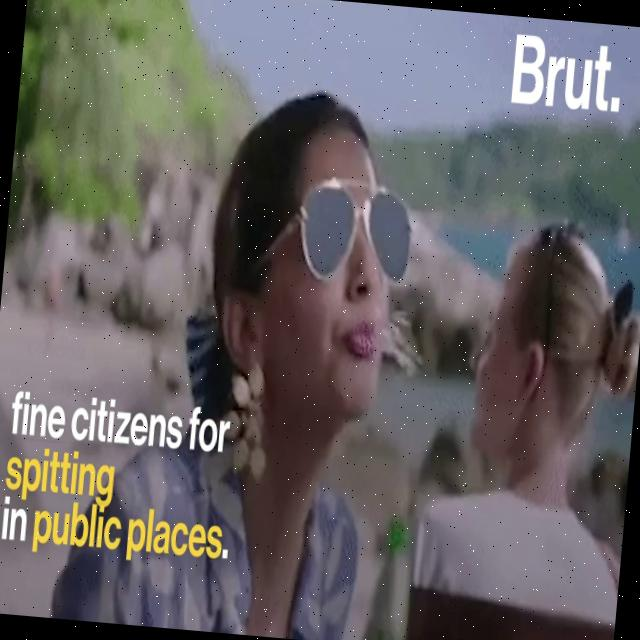spit: (231, 204, 466, 476)
